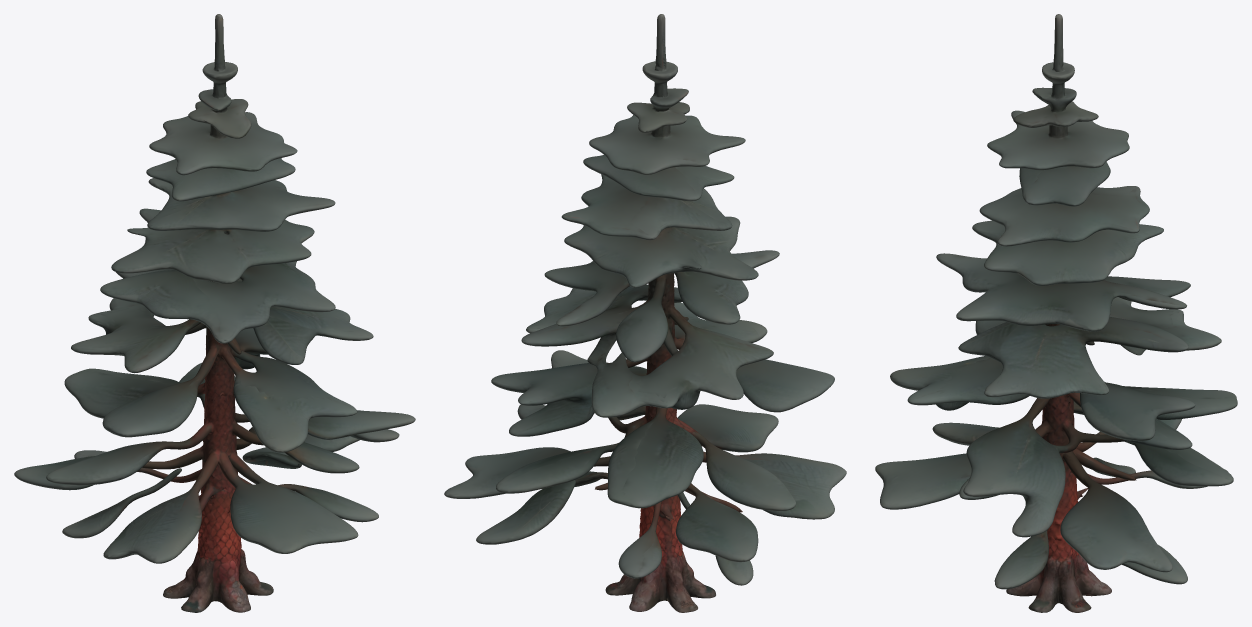
Rendered from CW_HF_AlpineFir_Hunyuan.fbx.
The picture shows the model from 3 angles, left to right: view 1: azimuth 30°, elevation 25°; view 2: azimuth 150°, elevation 25°; view 3: azimuth 270°, elevation 25°; orthographic projection.
Parts seen in each view (by area): view 1: CW_HF_AlpineFir_Hunyuan; view 2: CW_HF_AlpineFir_Hunyuan; view 3: CW_HF_AlpineFir_Hunyuan.
Part boxes in pixels (bbox=[...]): CW_HF_AlpineFir_Hunyuan: bbox=[14, 14, 415, 612]; CW_HF_AlpineFir_Hunyuan: bbox=[444, 14, 846, 612]; CW_HF_AlpineFir_Hunyuan: bbox=[875, 14, 1237, 612].
Size of the model in its own units: 5.27 by 9 by 5.13.
1 material, 1 textured.
